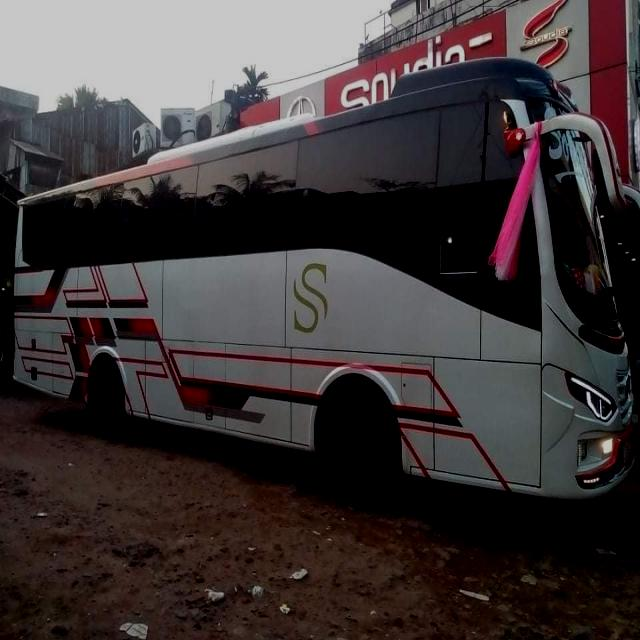bus: (12, 57, 638, 510)
